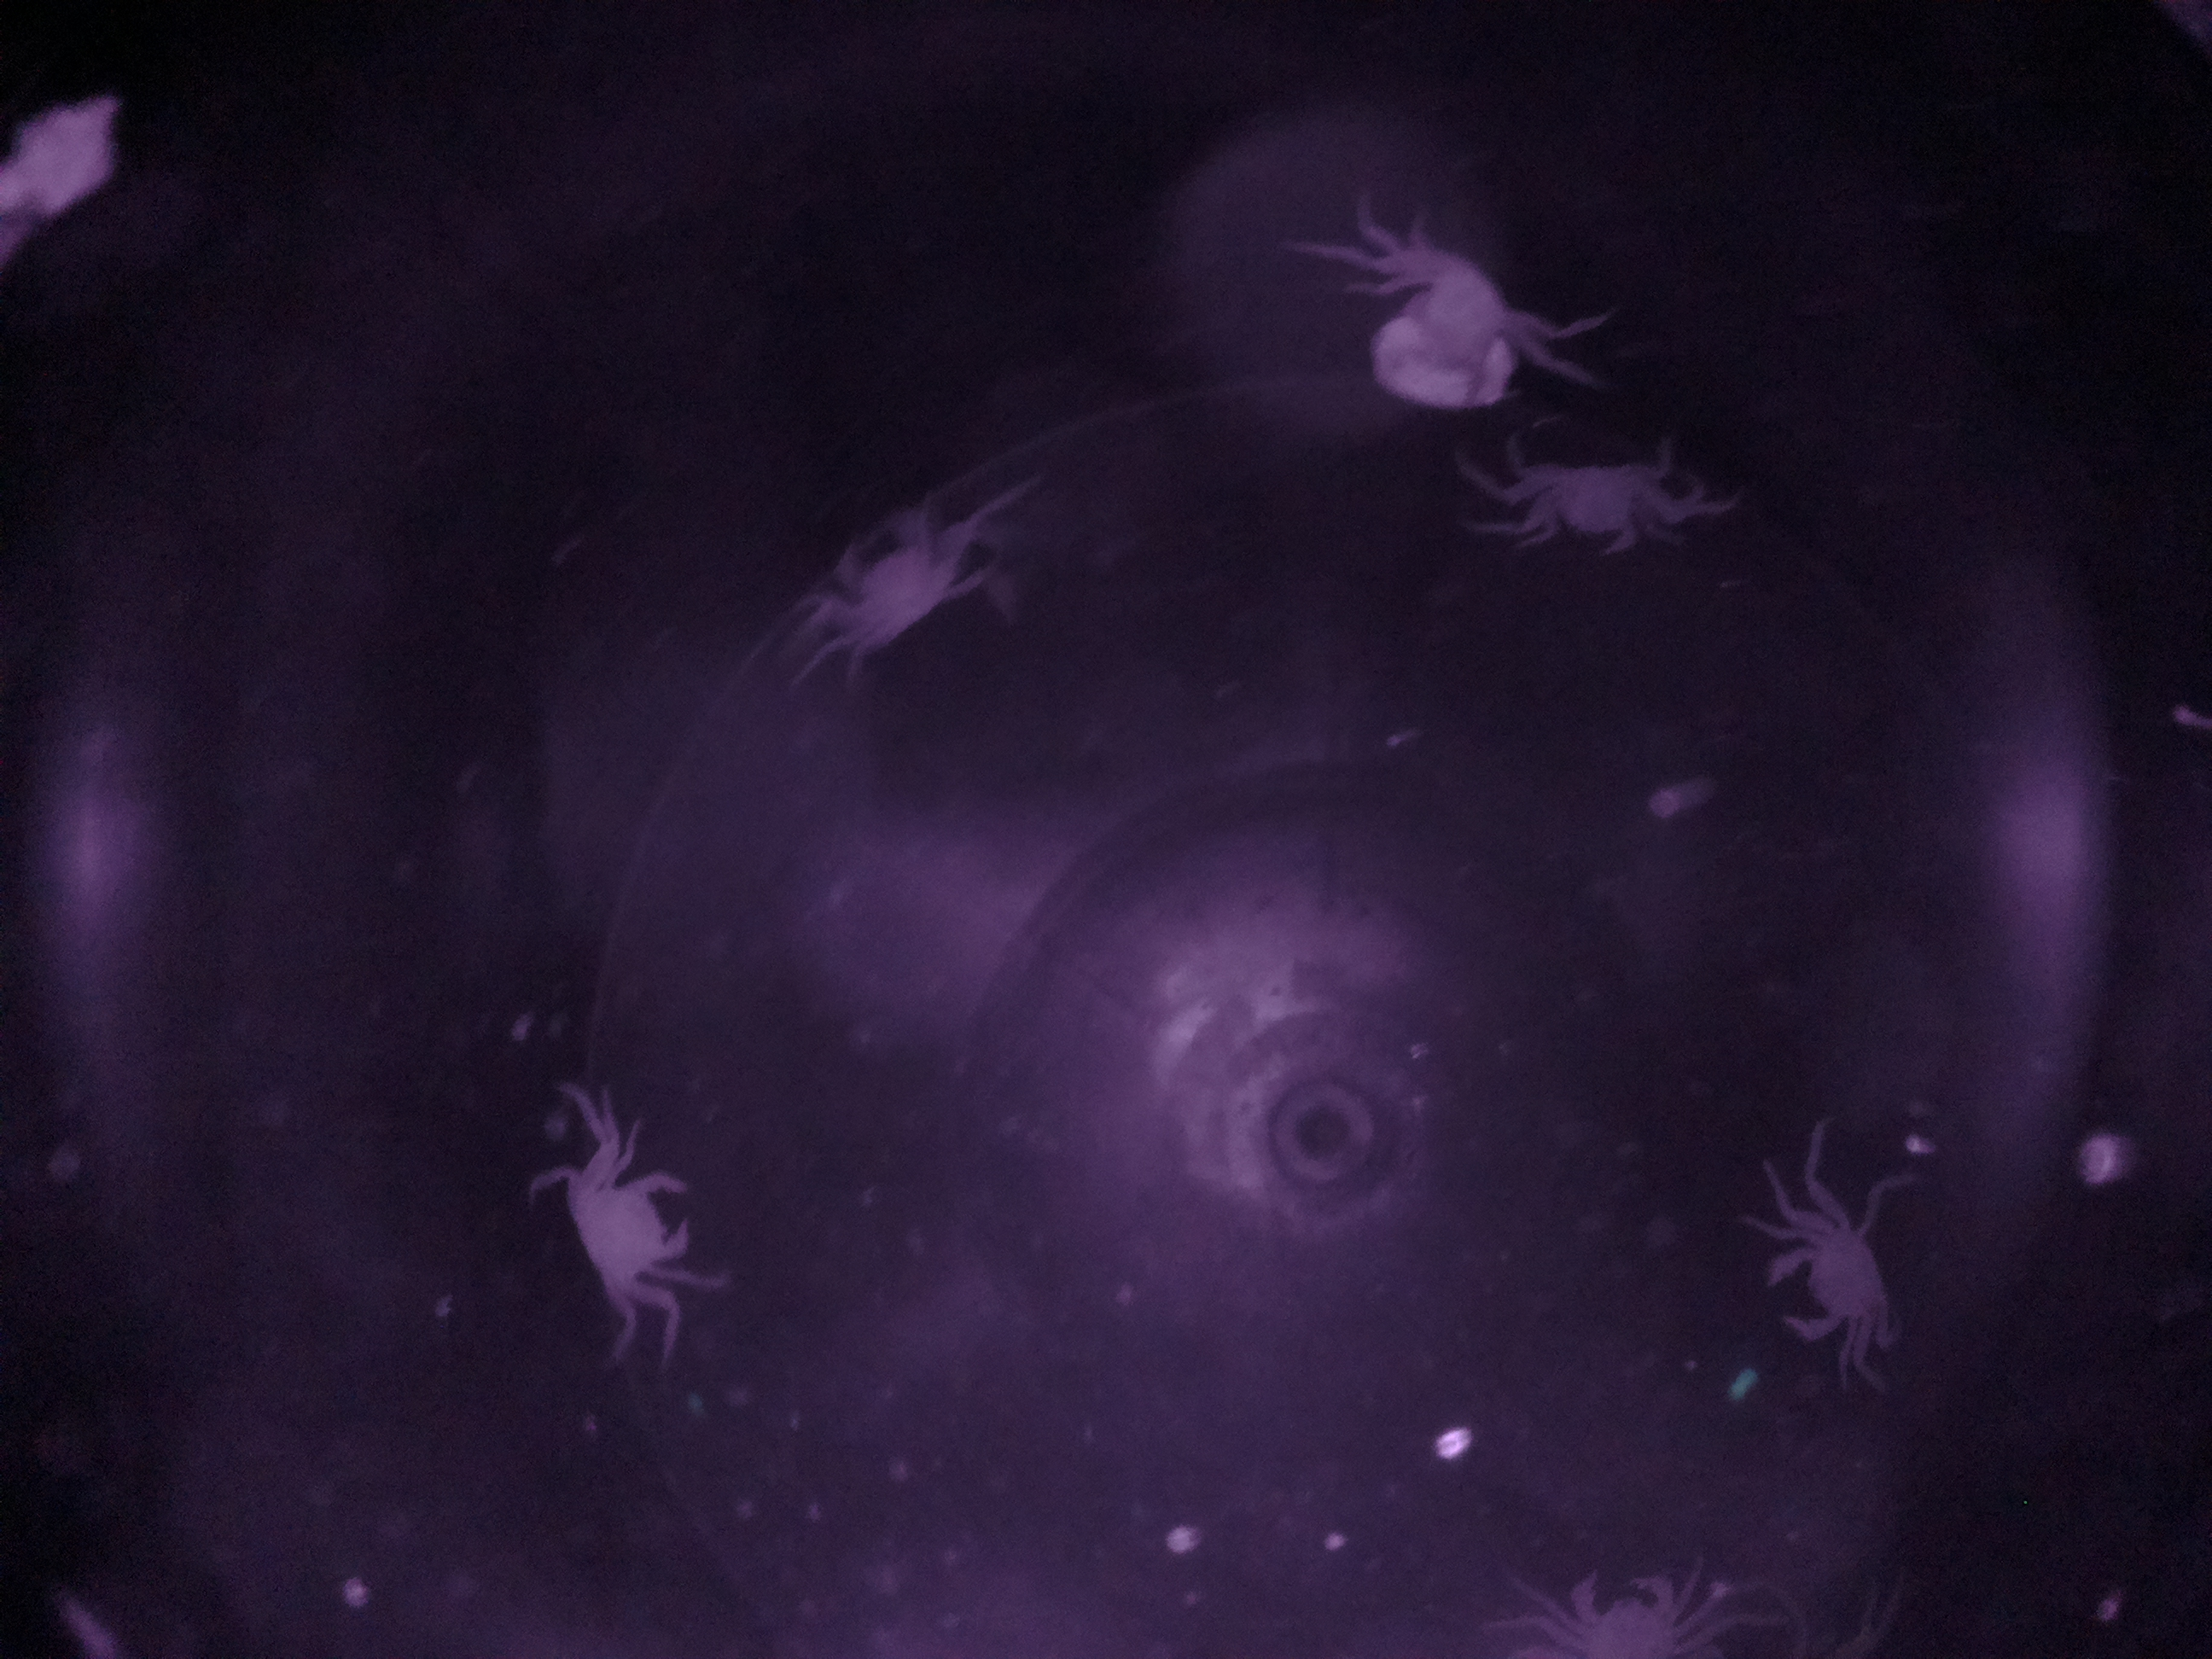Crab: (538, 1126, 718, 1319), (1752, 1173, 1921, 1371)
